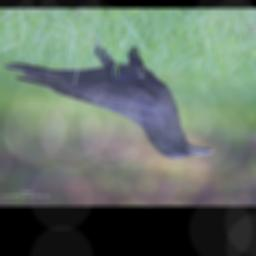Crow: (2, 34, 214, 160)
